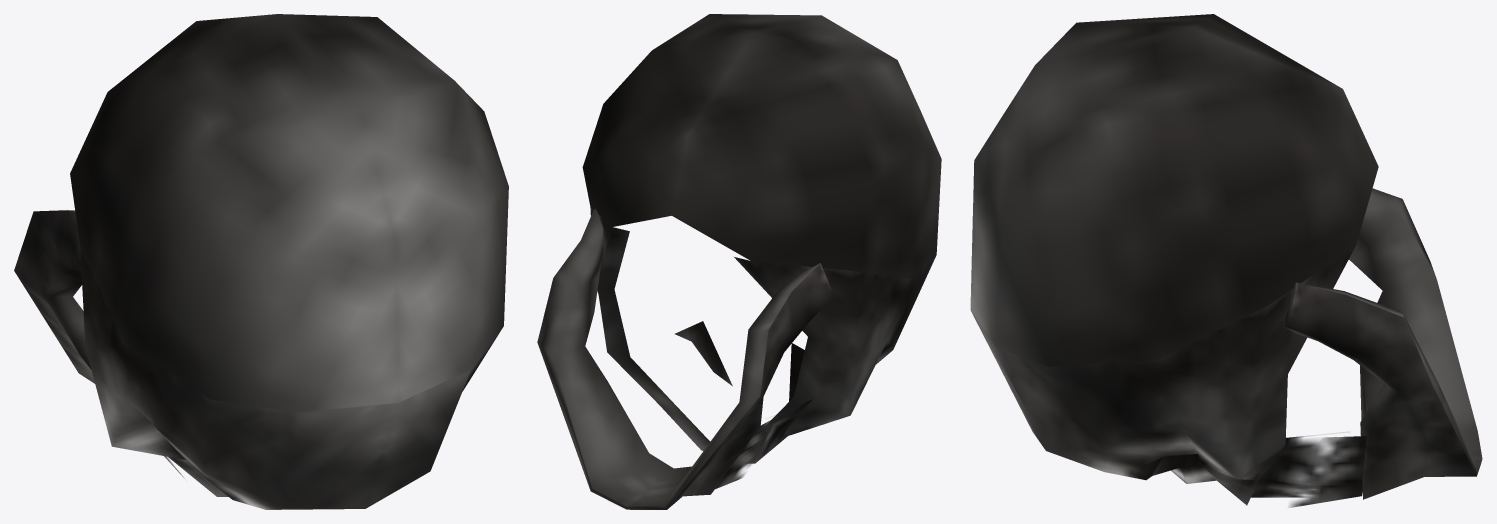
3 renders of one model, left to right at view 1: azimuth 30°, elevation 25°; view 2: azimuth 150°, elevation 25°; view 3: azimuth 270°, elevation 25°, orthographic. The views are drawn at different scales.
Visible parts, largest first — view 1: model_Object83; view 2: model_Object83; view 3: model_Object83.
Boxes of the visible parts, bbox=[...] form: model_Object83: bbox=[14, 14, 508, 509]; model_Object83: bbox=[537, 14, 941, 509]; model_Object83: bbox=[970, 14, 1482, 507].
Size of the model in its own units: 0.1553 by 0.2131 by 0.2084.
1 material, 1 textured.
